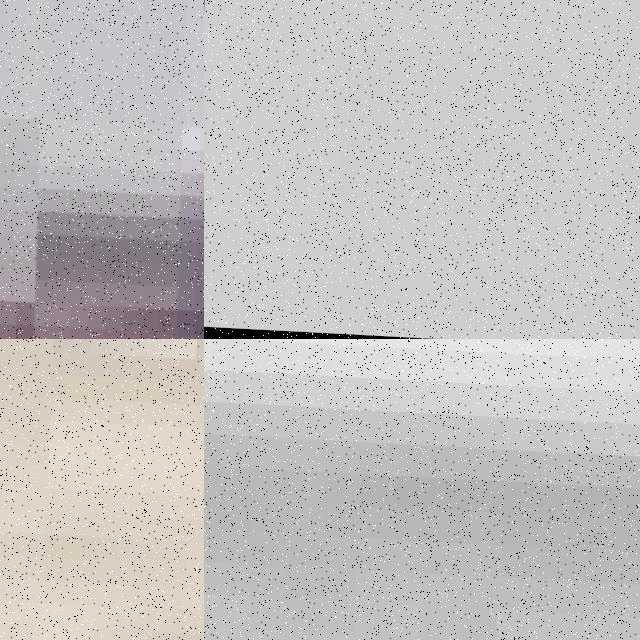drone: (0, 0, 204, 339)
